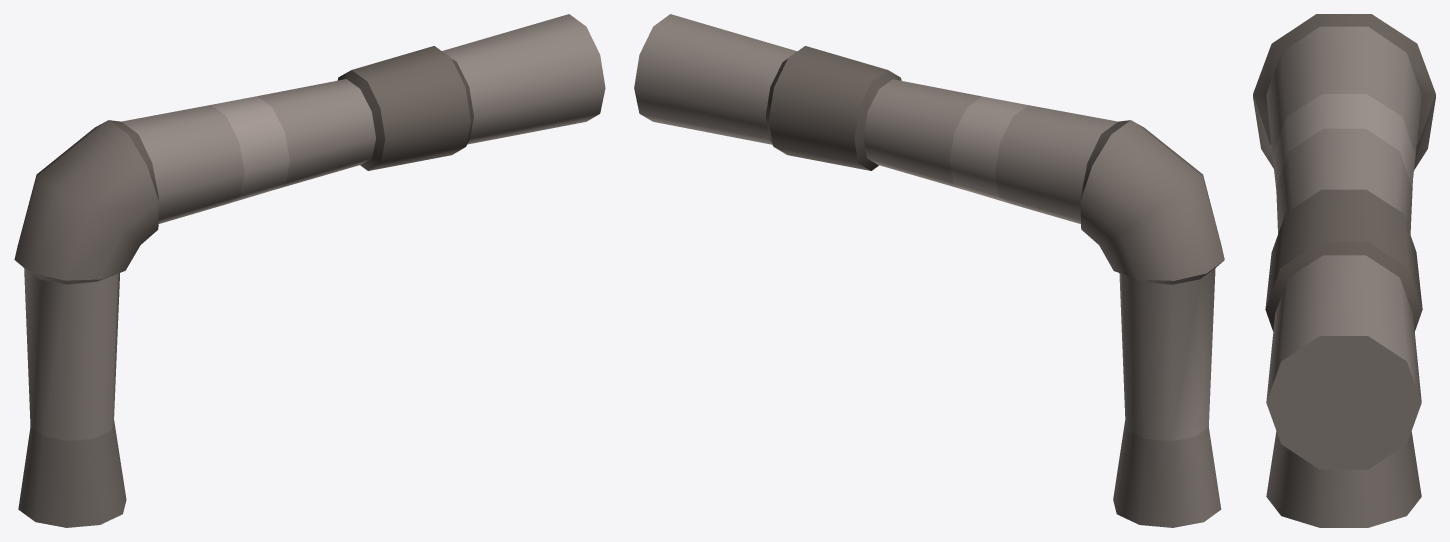
File: factory-corner.obj
3 views of the same model, side by side, from view 1: azimuth 30°, elevation 25°; view 2: azimuth 150°, elevation 25°; view 3: azimuth 270°, elevation 25° (orthographic). The views are drawn at different scales.
Parts seen in each view (by area): view 1: factory-corner; view 2: factory-corner; view 3: factory-corner.
Part boxes in pixels (<box>): factory-corner: <box>14,14,605,527</box>; factory-corner: <box>634,14,1224,527</box>; factory-corner: <box>1253,14,1435,527</box>.
Size of the model in its own units: 20.53 by 12.97 by 4.18.
Materials: 1 (1 with a texture image).
